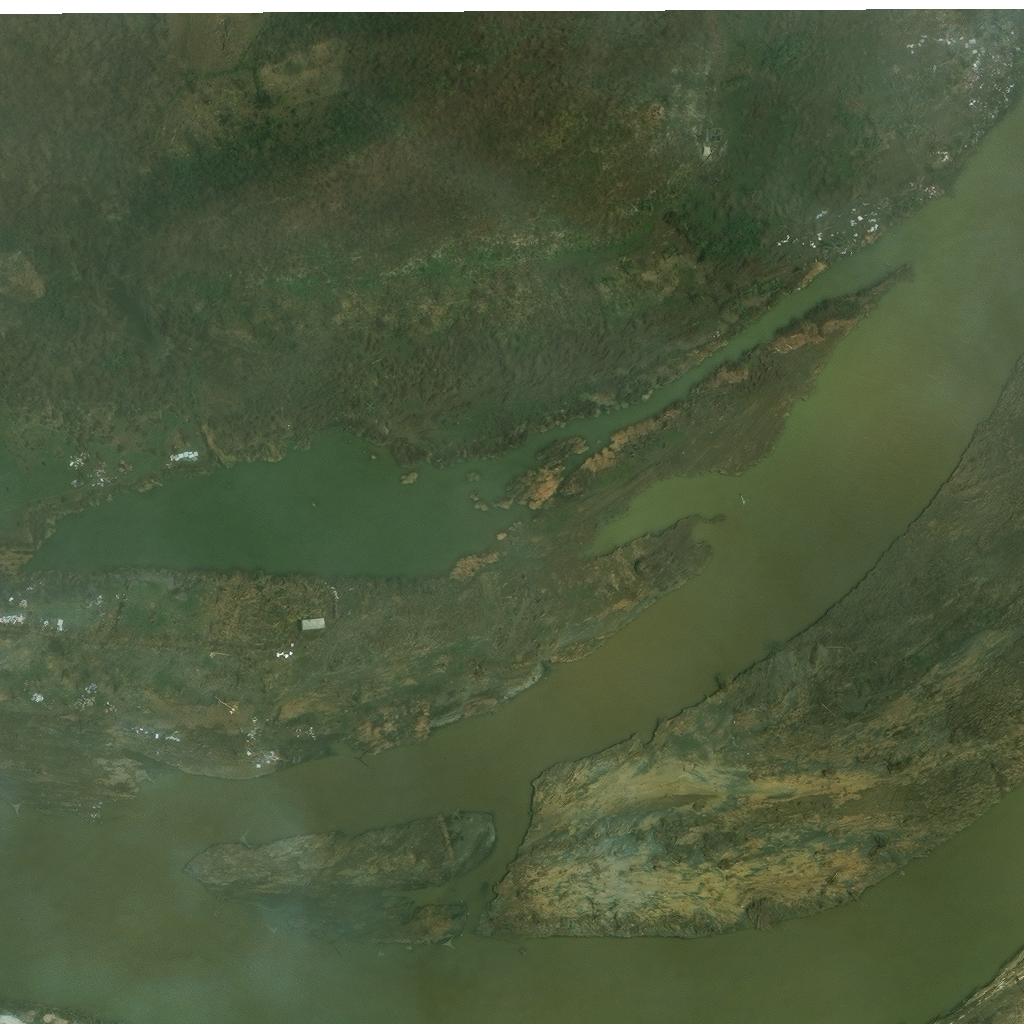destroyed: (708, 124, 725, 143), (332, 787, 345, 800)
minor_damage: (293, 621, 316, 633)
